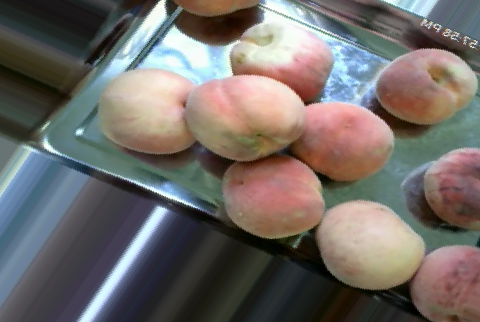Peach: (187, 74, 304, 160), (317, 198, 424, 291), (98, 65, 201, 156), (227, 22, 334, 103), (217, 155, 325, 235), (288, 100, 392, 182), (373, 48, 476, 126), (412, 243, 480, 320), (422, 145, 480, 232)
